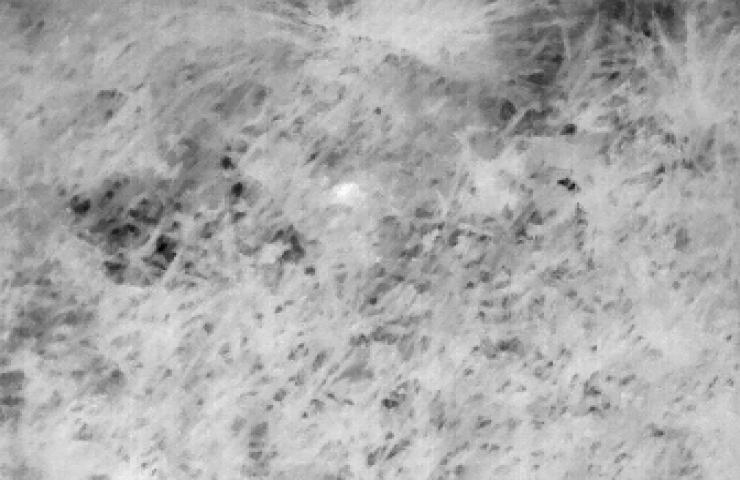landmines: (307, 167, 376, 241)
